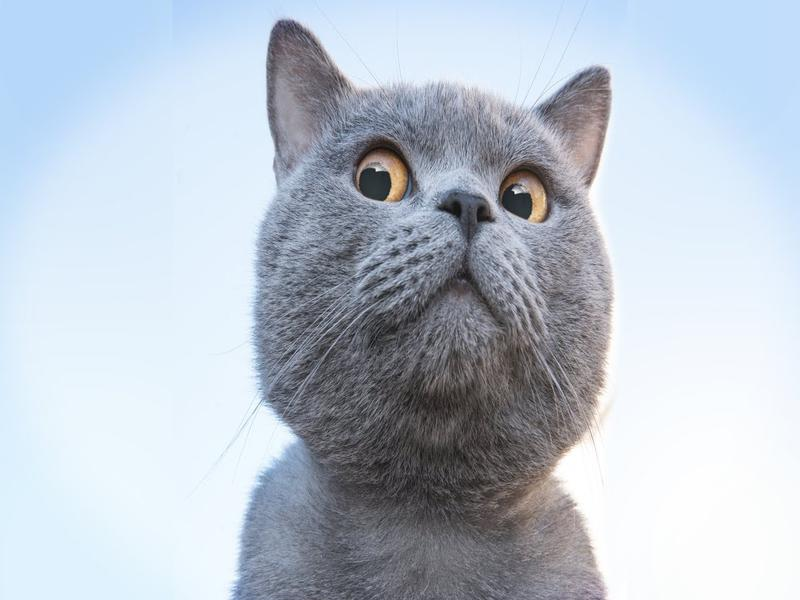cat: (232, 14, 615, 600)
